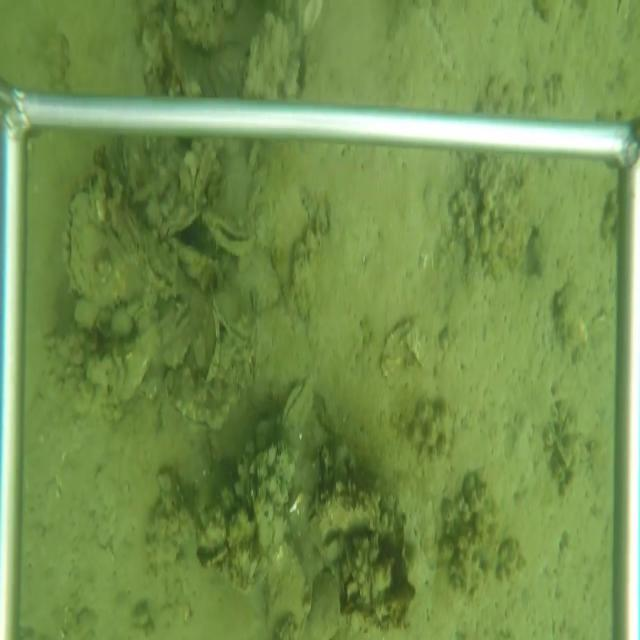Oyster-Closed: (58, 180, 166, 308), (209, 282, 258, 354), (280, 375, 315, 450), (195, 301, 225, 380)
Oyster-Indeterminate: (260, 533, 314, 638), (238, 8, 294, 98)
Oyster-Open: (200, 204, 263, 259)
